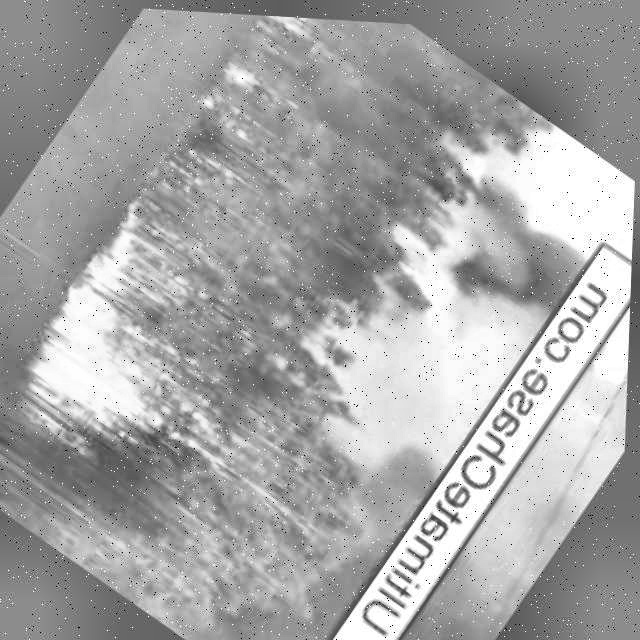Fire: (10, 197, 241, 455), (220, 43, 278, 99), (263, 12, 333, 35)
Smoke: (258, 67, 638, 536), (333, 214, 634, 640)
